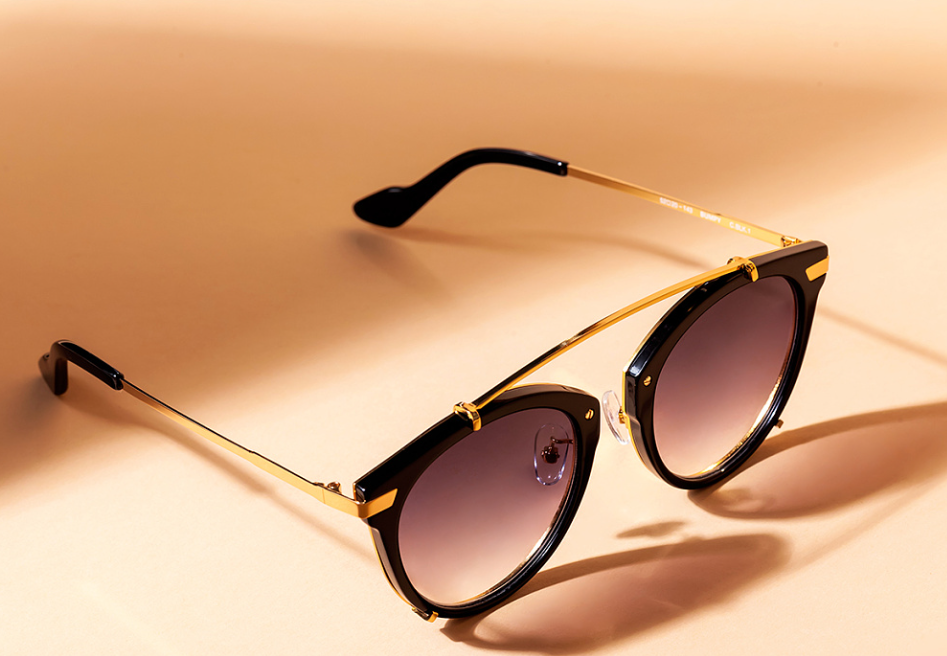glass: (35, 128, 843, 633)
